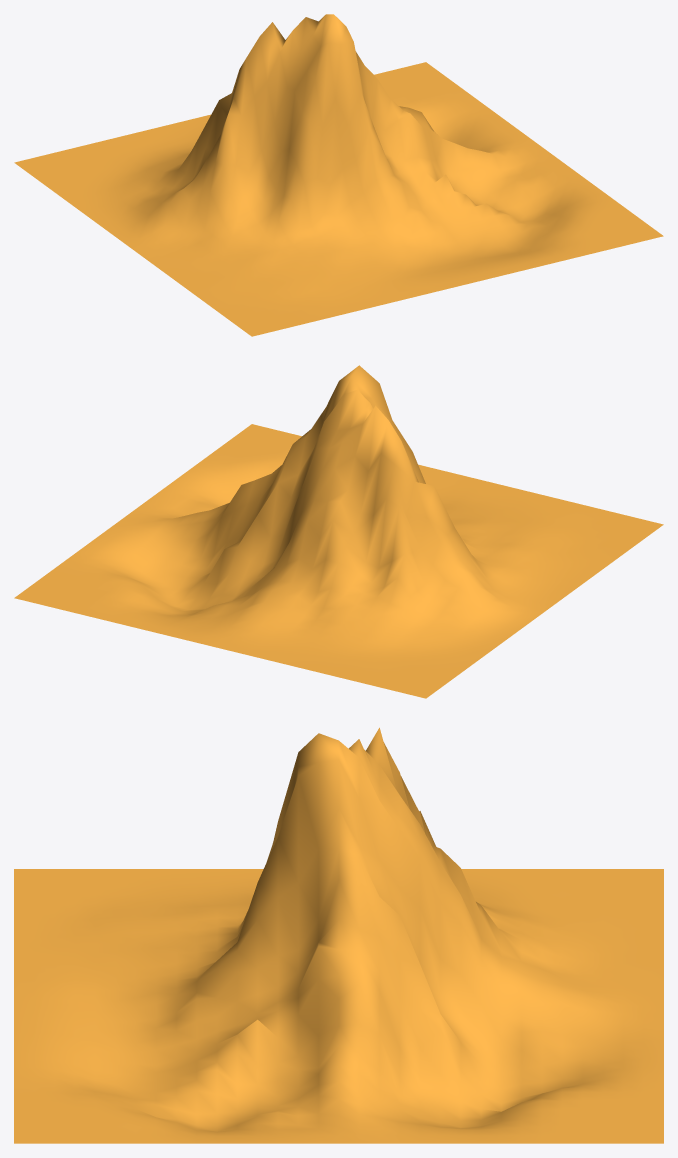
The model's file is mountain2.fbx.
3 views of the same model, one above another, from view 1: azimuth 30°, elevation 25°; view 2: azimuth 150°, elevation 25°; view 3: azimuth 270°, elevation 25° (orthographic). The views are drawn at different scales.
Visible parts, largest first — view 1: mountain2; view 2: mountain2; view 3: mountain2.
Part boxes in pixels (x1,y1,x2,y2): mountain2: [14, 14, 663, 336]; mountain2: [14, 365, 663, 698]; mountain2: [14, 727, 663, 1143].
Size of the model in its own units: 2 by 1.03 by 2.
